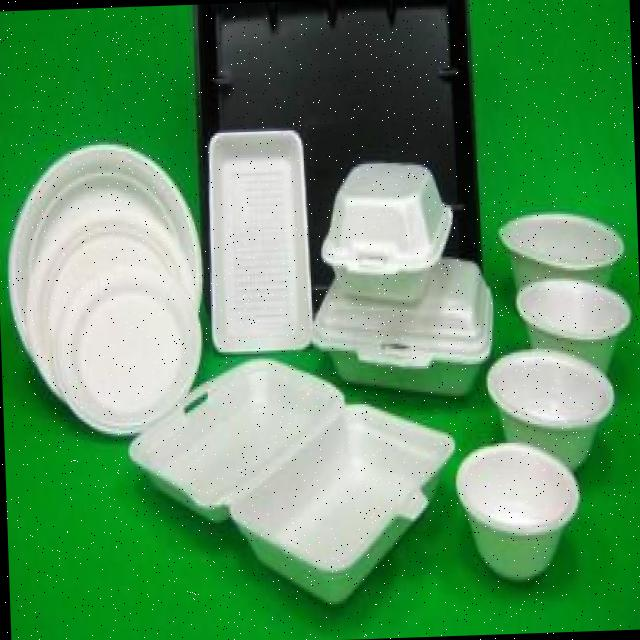styrofoam: (222, 396, 460, 610), (122, 352, 348, 526)
